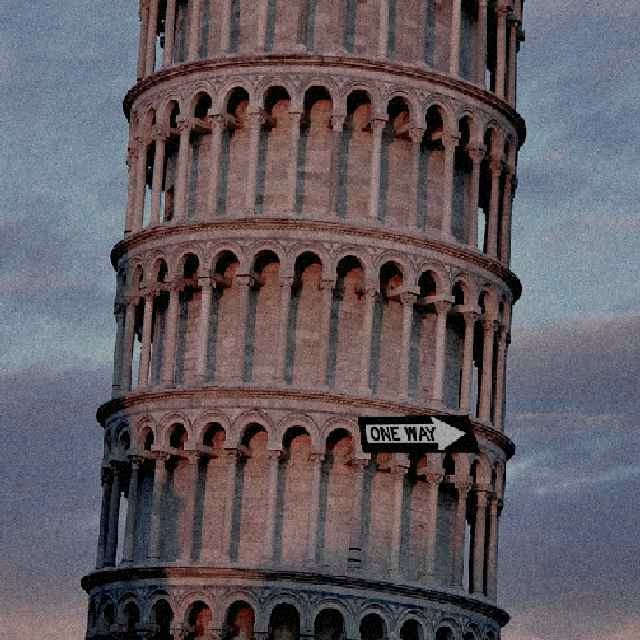ONE_WAY_ right: (356, 413, 479, 452)
